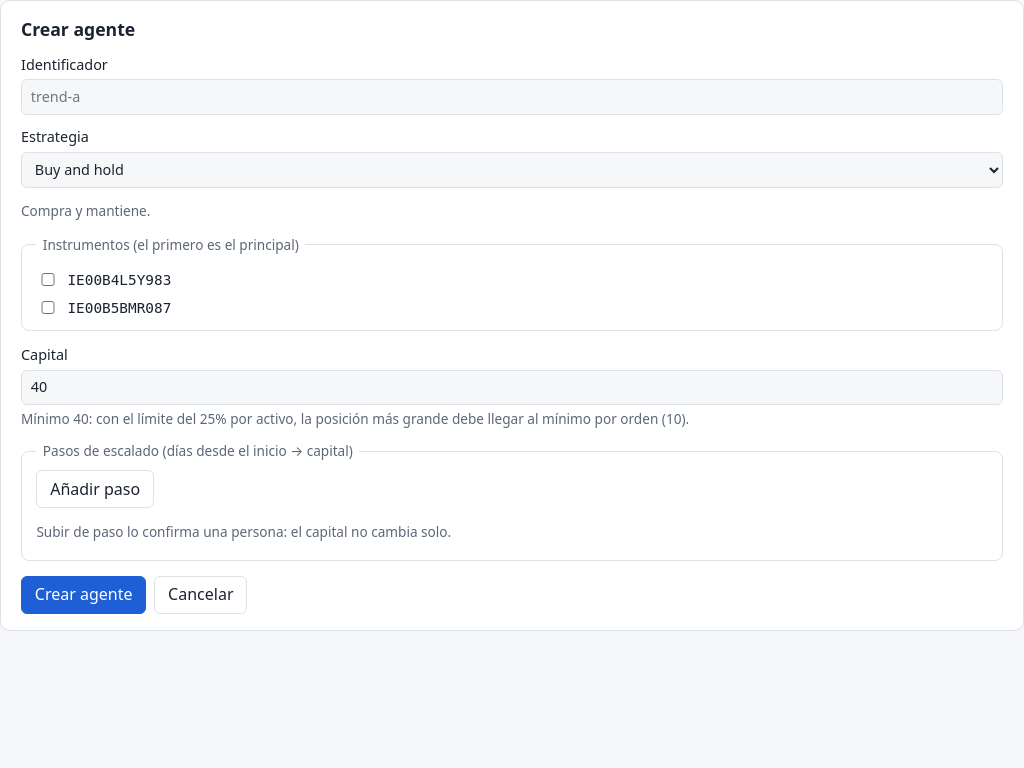
Test: AgentForm (create) › rejects steps that do not go up
Type "a" into the field labelled "Identificador" at (512,97), box [21,79,1003,115]
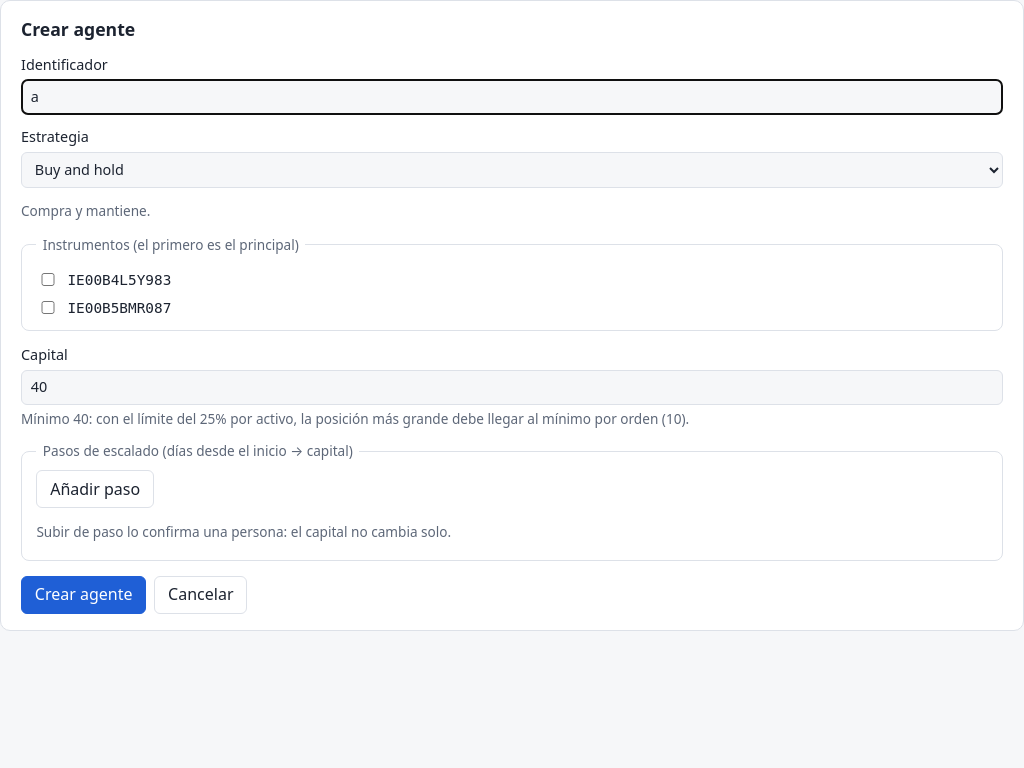
Click the checkbox labelled "IE00B4L5Y983" at (48,280), box [40,273,56,286]
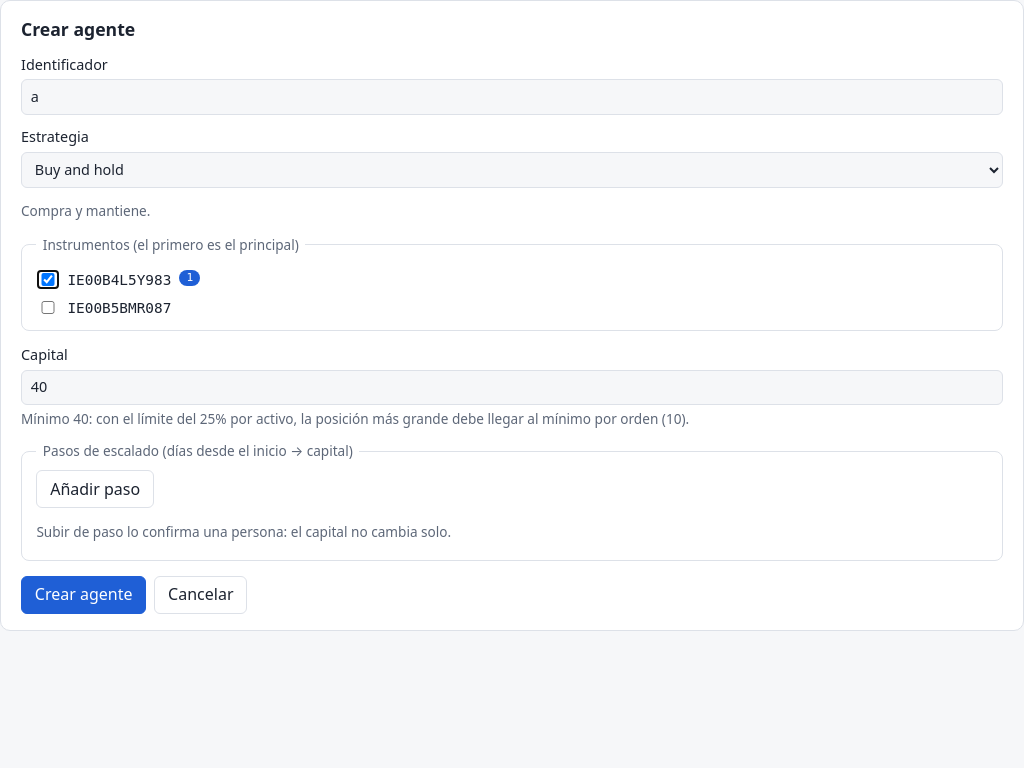
Click the button "Añadir paso" at (95,490), box [36,470,154,508]
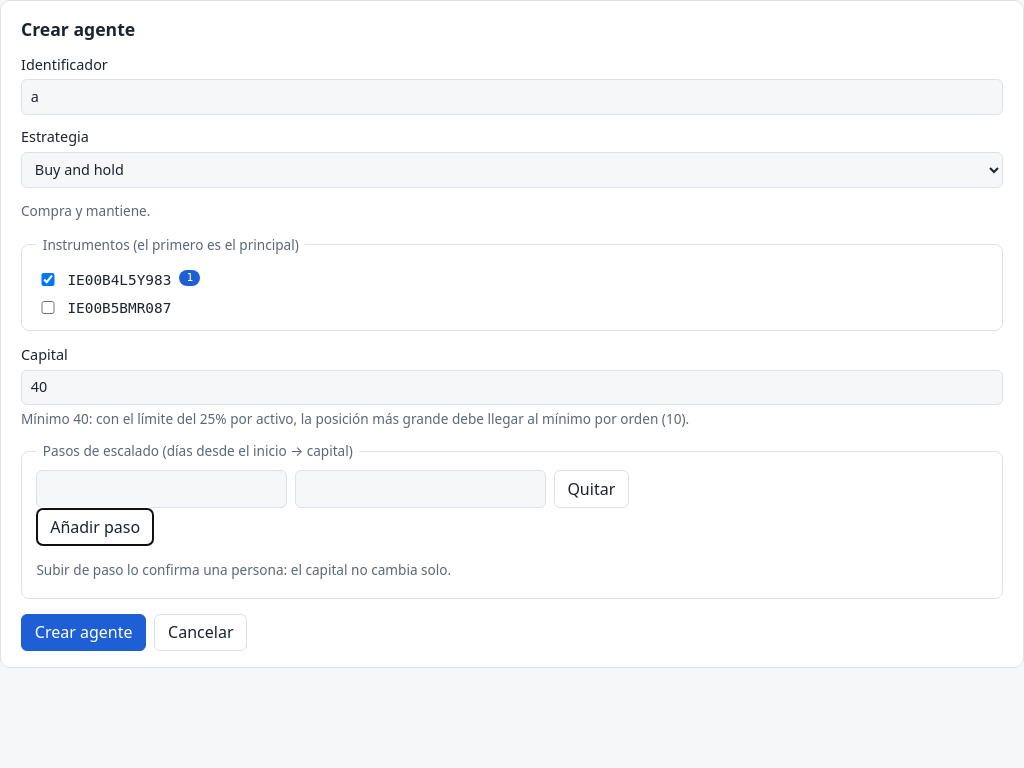
Type "30" into the number field named "Días del paso 1" at (162,490), box [36,470,287,508]
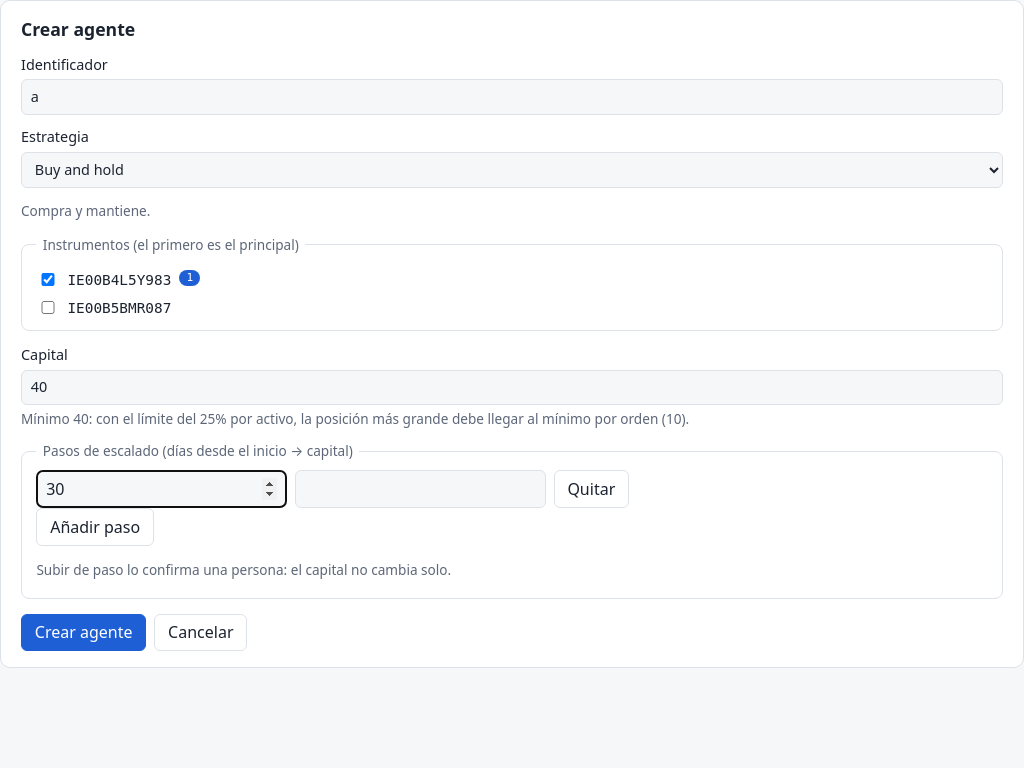
Type "40" into the number field named "Capital del paso 1" at (420,490), box [295,470,546,508]
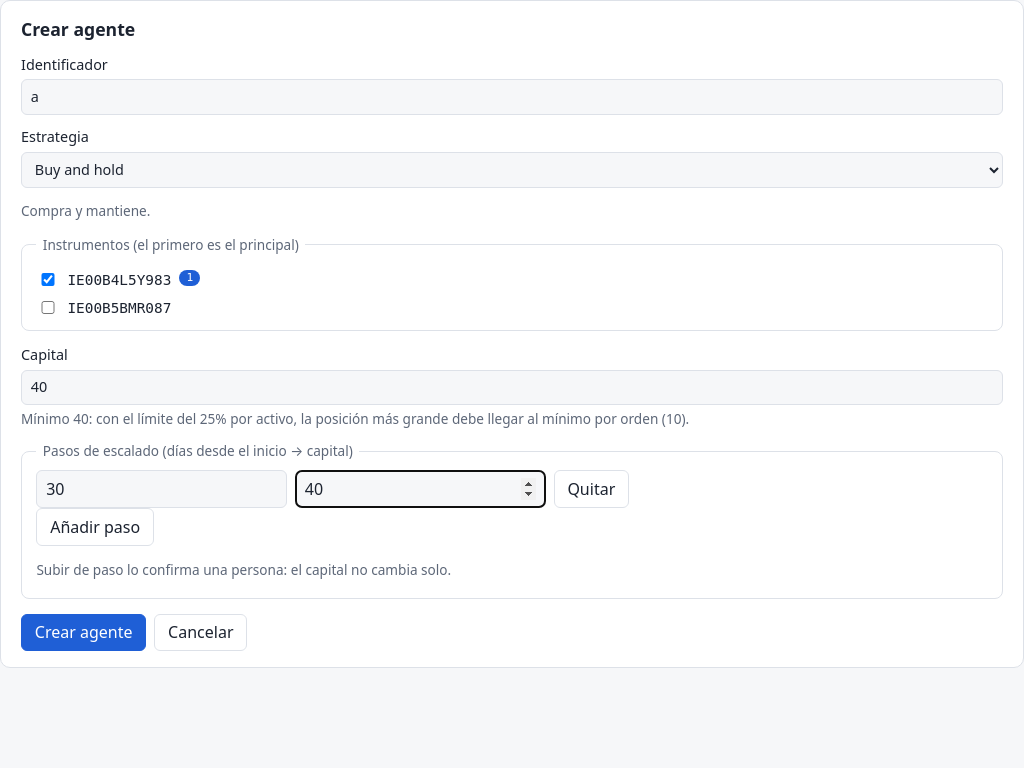
Click the button "Crear agente" at (84,632), box [21,614,146,652]
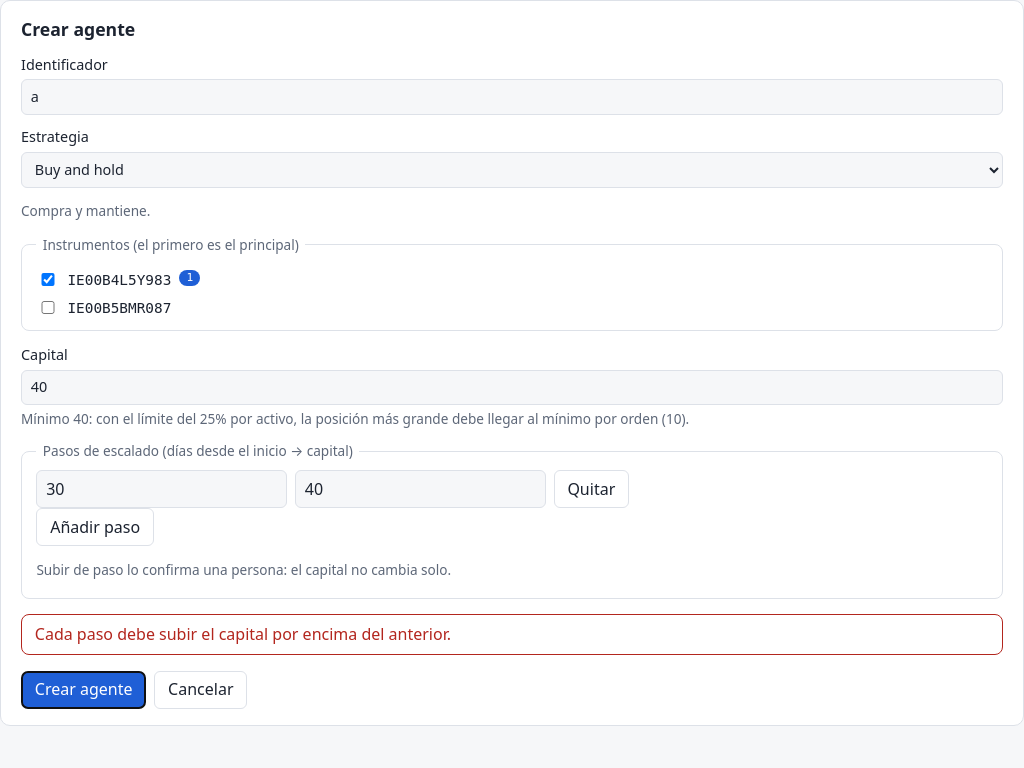
Now the message shows "subir el capital", box [35,622,451,644]
